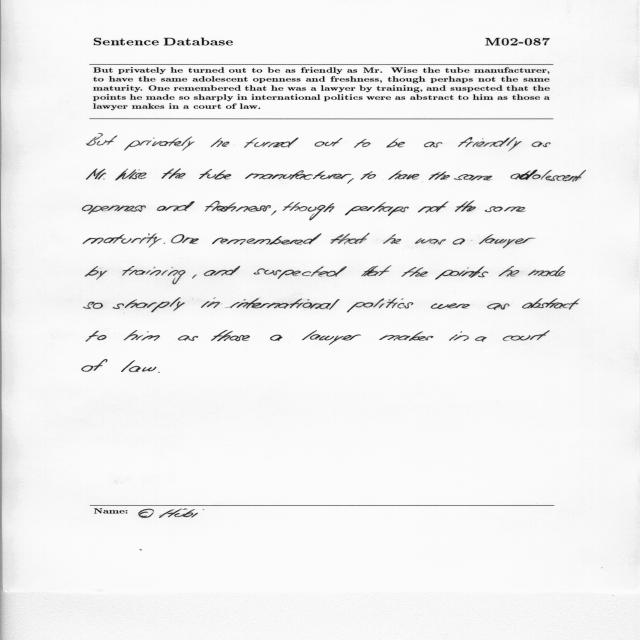word: (227, 298, 340, 310), (212, 233, 322, 245), (254, 266, 347, 279), (83, 233, 162, 248), (122, 266, 186, 284), (113, 298, 185, 313), (124, 136, 195, 151), (245, 170, 351, 180), (283, 202, 335, 221), (347, 298, 413, 312), (510, 170, 586, 182), (345, 202, 409, 216), (302, 330, 361, 345), (458, 137, 521, 151), (479, 234, 536, 248), (435, 266, 488, 280), (205, 201, 271, 212), (522, 298, 580, 309), (244, 137, 298, 148), (82, 205, 146, 214), (380, 331, 434, 341), (503, 330, 550, 341), (121, 360, 157, 372), (331, 233, 370, 244), (211, 330, 250, 341), (157, 201, 195, 212), (124, 330, 160, 341), (87, 133, 117, 146), (115, 169, 147, 181), (528, 266, 565, 276), (418, 201, 448, 213), (204, 266, 240, 276), (82, 359, 107, 372), (199, 169, 231, 179), (389, 170, 420, 180), (86, 266, 108, 280), (362, 266, 392, 276), (171, 234, 199, 244), (161, 168, 186, 179), (401, 267, 428, 277), (454, 174, 492, 181), (315, 138, 343, 147), (485, 207, 526, 213), (431, 303, 470, 309), (455, 201, 476, 212), (86, 331, 107, 342), (86, 169, 106, 180), (415, 238, 446, 245), (499, 266, 519, 276), (449, 331, 469, 341), (211, 138, 230, 148), (201, 298, 220, 308), (429, 171, 450, 180), (383, 234, 401, 244), (386, 139, 405, 148), (487, 303, 510, 310), (354, 139, 370, 148), (83, 302, 103, 309), (361, 171, 376, 180), (178, 335, 198, 341), (424, 142, 442, 148), (532, 142, 551, 147), (453, 238, 465, 245), (270, 335, 282, 341), (475, 336, 487, 342), (347, 178, 354, 184), (271, 211, 276, 216), (192, 274, 197, 279), (164, 243, 166, 244), (158, 372, 160, 373)
